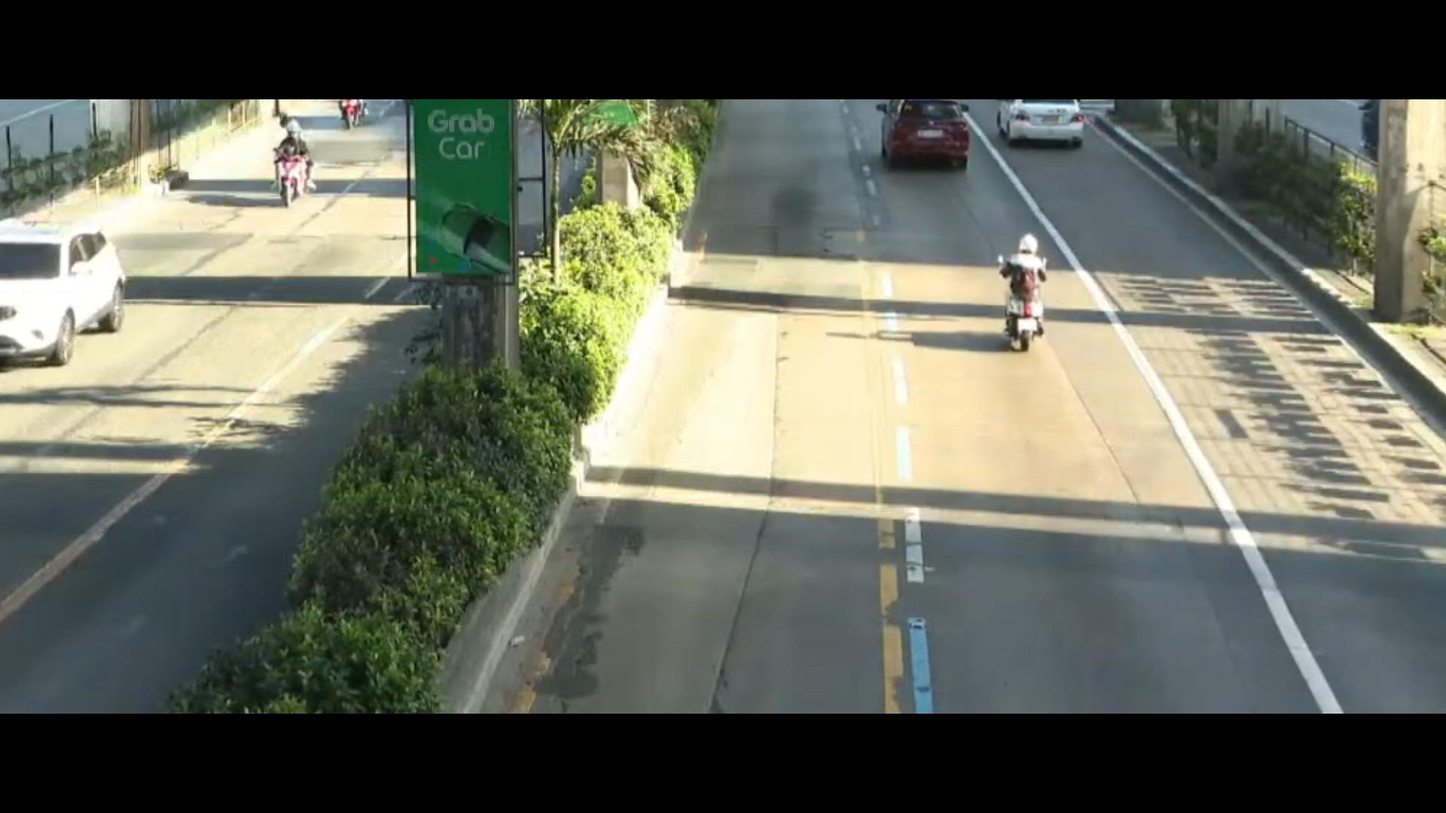Motorcycle: (998, 228, 1060, 365), (269, 115, 330, 208)
SUV: (0, 213, 143, 384), (864, 100, 968, 170), (998, 98, 1091, 151)
